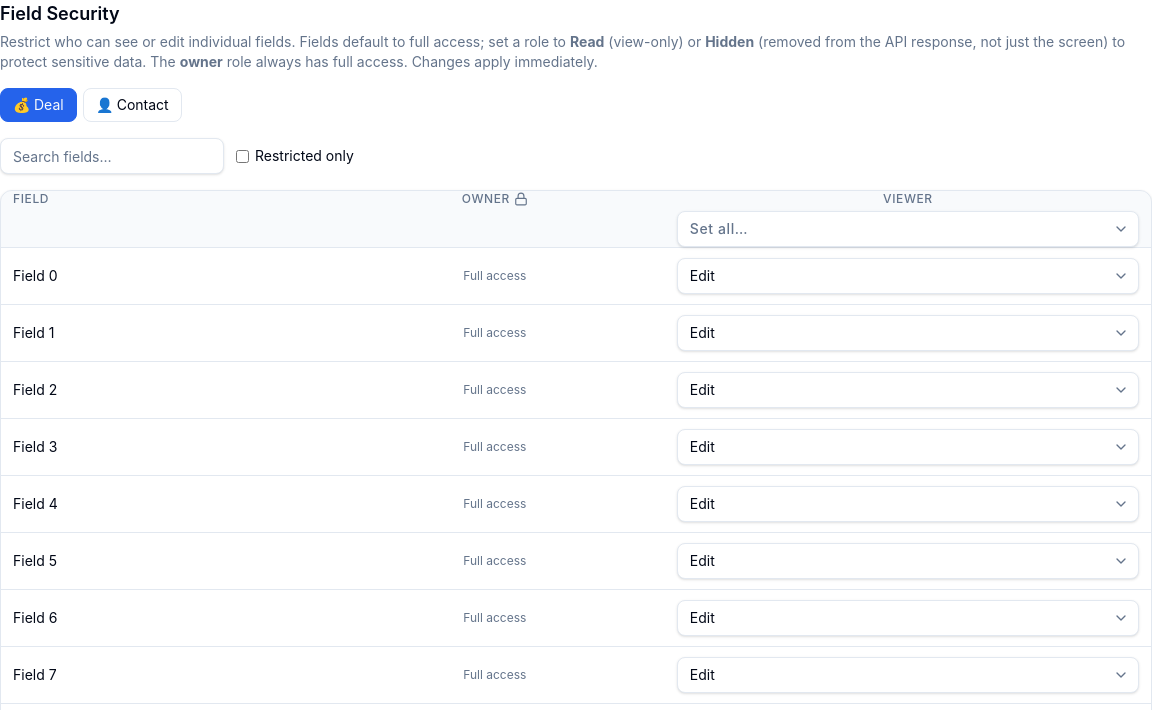
Test: FieldSecurityManager — field × role level grid › a mid-chunk bulk failure surfaces the error and reloads the grid
The width and height of the screenshot is (1152, 710).
Expected: the text "Field 0" is shown, [1, 248, 325, 304]
Select "Hidden" in the dropdown named "Set all Viewer" at [908, 229], box [677, 211, 1139, 247]
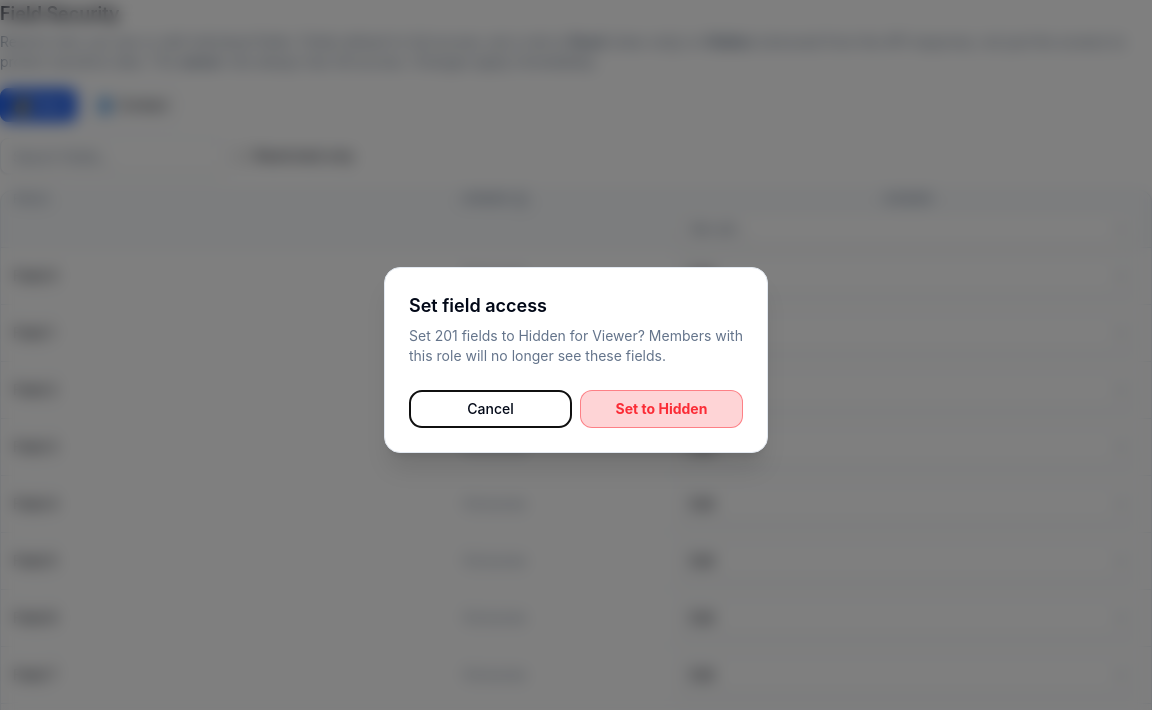
Click the button "Set to Hidden" at [662, 409], box [580, 390, 743, 428]
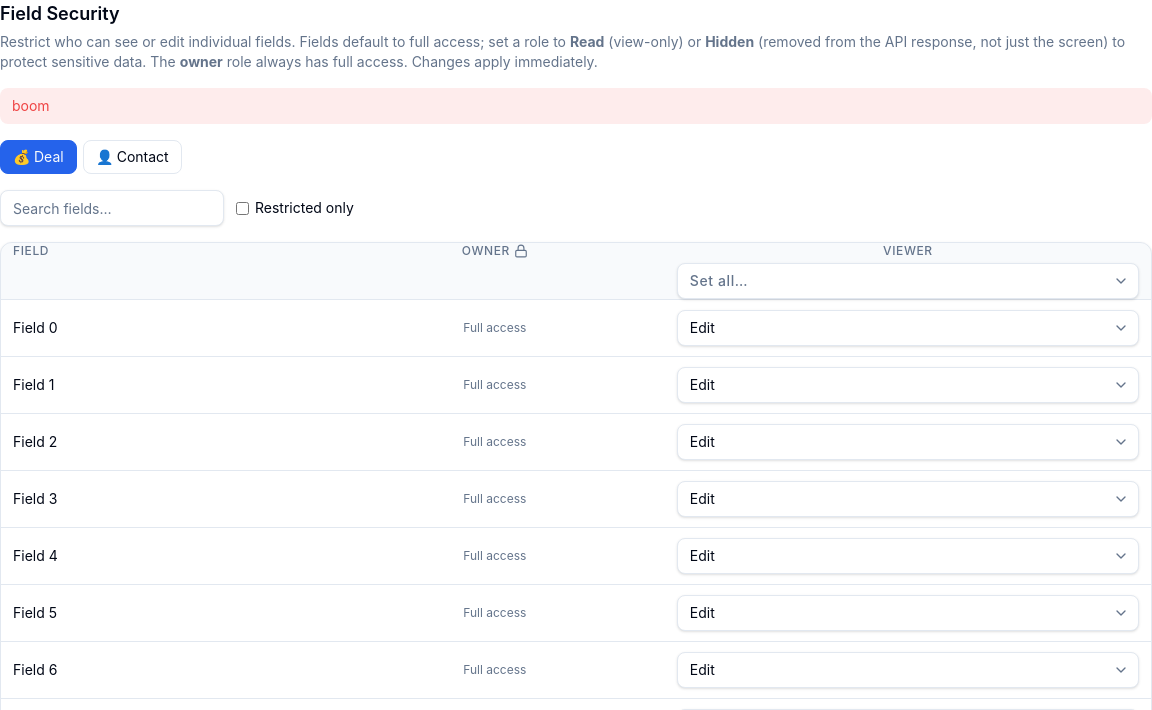
Result: the text "boom" is shown at [0, 88, 1151, 124]
